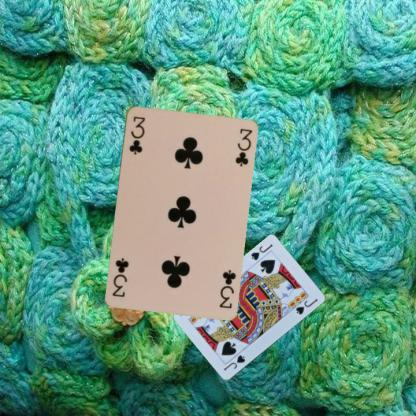3c: (216, 267, 237, 310), (126, 114, 146, 156)
Js: (248, 242, 274, 262), (220, 353, 246, 372)
